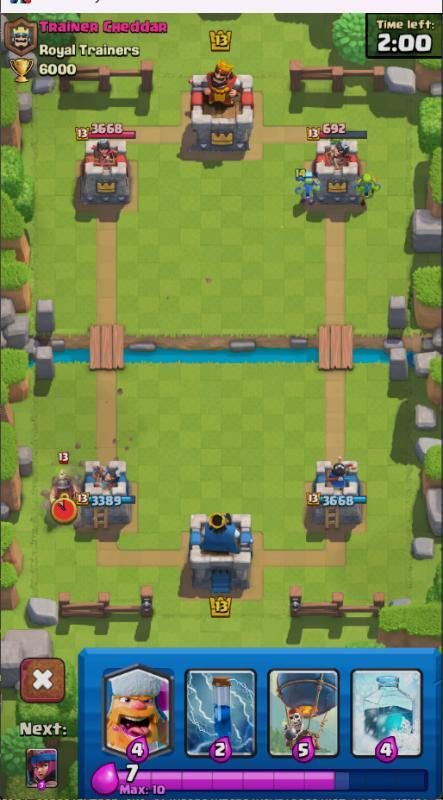enemy_miner: (42, 442, 81, 527)
player_goblins: (290, 166, 321, 208), (351, 167, 383, 205)
